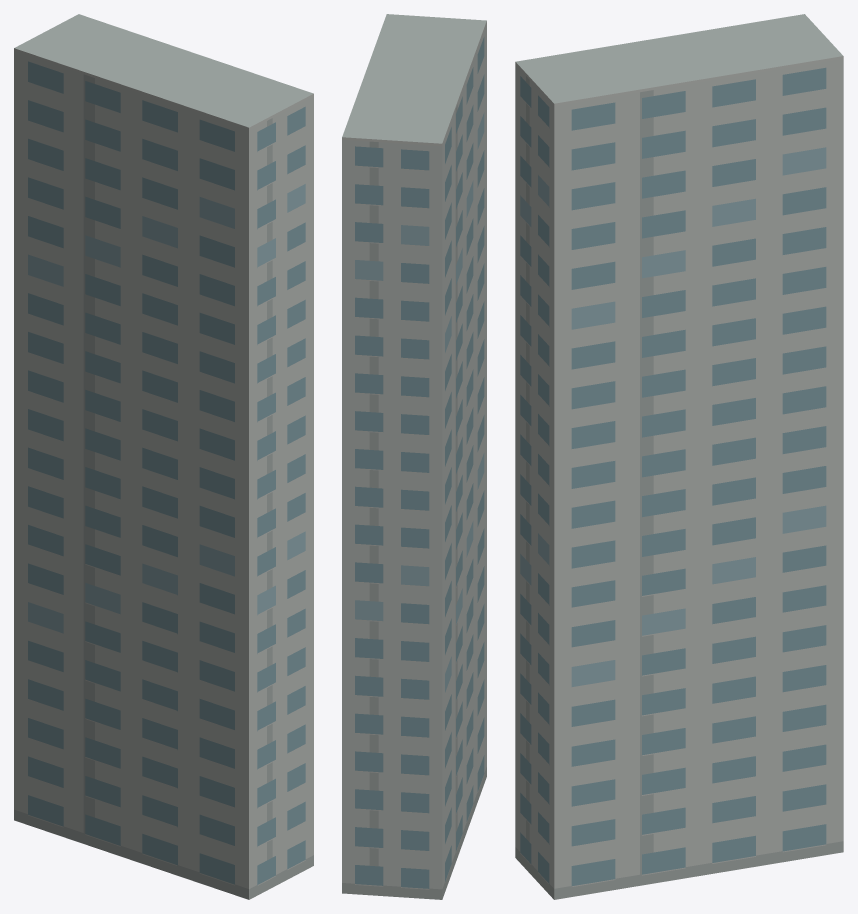
The model's file is residential-1f74ca1a-8626-4c86-befd-6369d6c8adcc.glb.
The picture shows the model from 3 angles, left to right: view 1: azimuth 30°, elevation 25°; view 2: azimuth 150°, elevation 25°; view 3: azimuth 270°, elevation 25°; orthographic projection. The views are drawn at different scales.
Visible parts, largest first — view 1: residential-1f74ca1a-8626-4c86-befd-6369d6c8adcc.tmp; view 2: residential-1f74ca1a-8626-4c86-befd-6369d6c8adcc.tmp; view 3: residential-1f74ca1a-8626-4c86-befd-6369d6c8adcc.tmp.
Part boxes in pixels (x1,y1,x2,y2): residential-1f74ca1a-8626-4c86-befd-6369d6c8adcc.tmp: (14,14,313,899); residential-1f74ca1a-8626-4c86-befd-6369d6c8adcc.tmp: (342,14,486,899); residential-1f74ca1a-8626-4c86-befd-6369d6c8adcc.tmp: (515,14,843,899).
Size of the model in its own units: 17.4 by 72 by 26.89.
